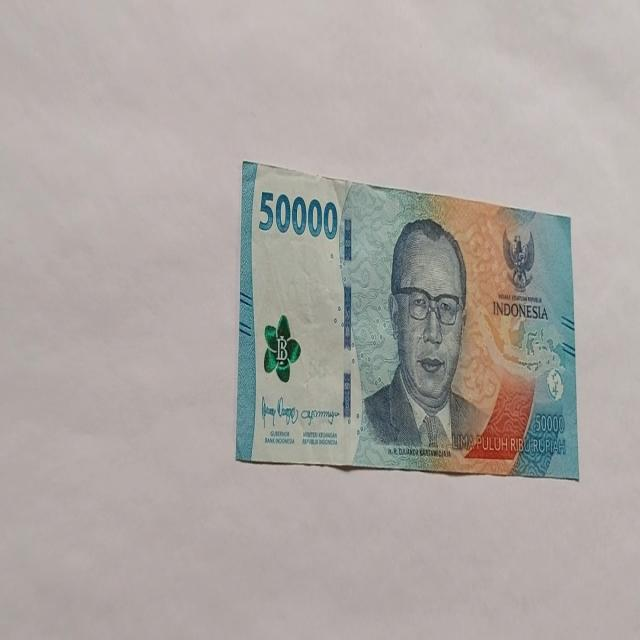lima puluh ribu rupiah: (235, 158, 579, 479), (356, 216, 488, 461), (257, 187, 339, 241)
